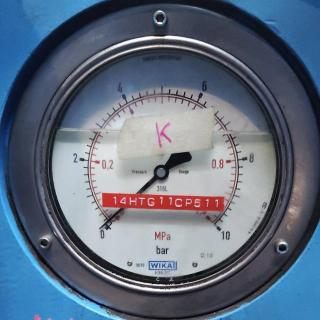gauge: (36, 32, 295, 302), (90, 212, 122, 240), (206, 218, 232, 242), (152, 163, 170, 181), (95, 221, 108, 233)
